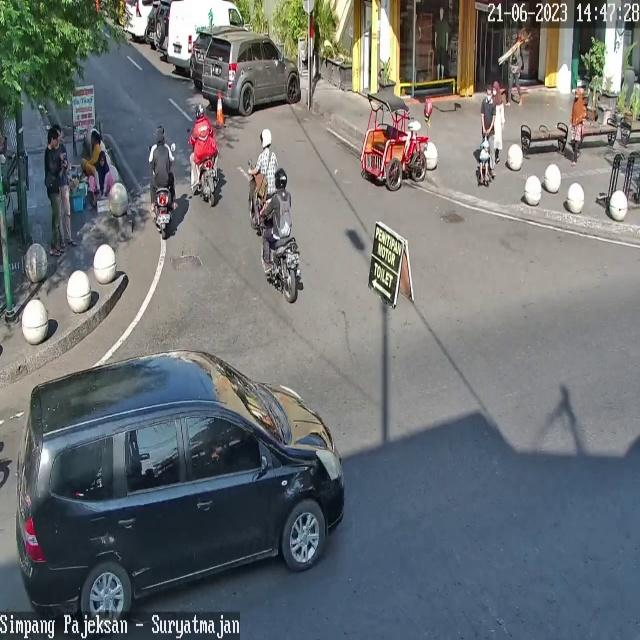bus: (268, 235, 303, 302), (197, 156, 221, 208), (154, 188, 172, 238), (246, 164, 260, 224)
motorcycle: (16, 349, 344, 633), (202, 31, 300, 116), (166, 0, 244, 67), (191, 28, 213, 82), (123, 0, 152, 36)
